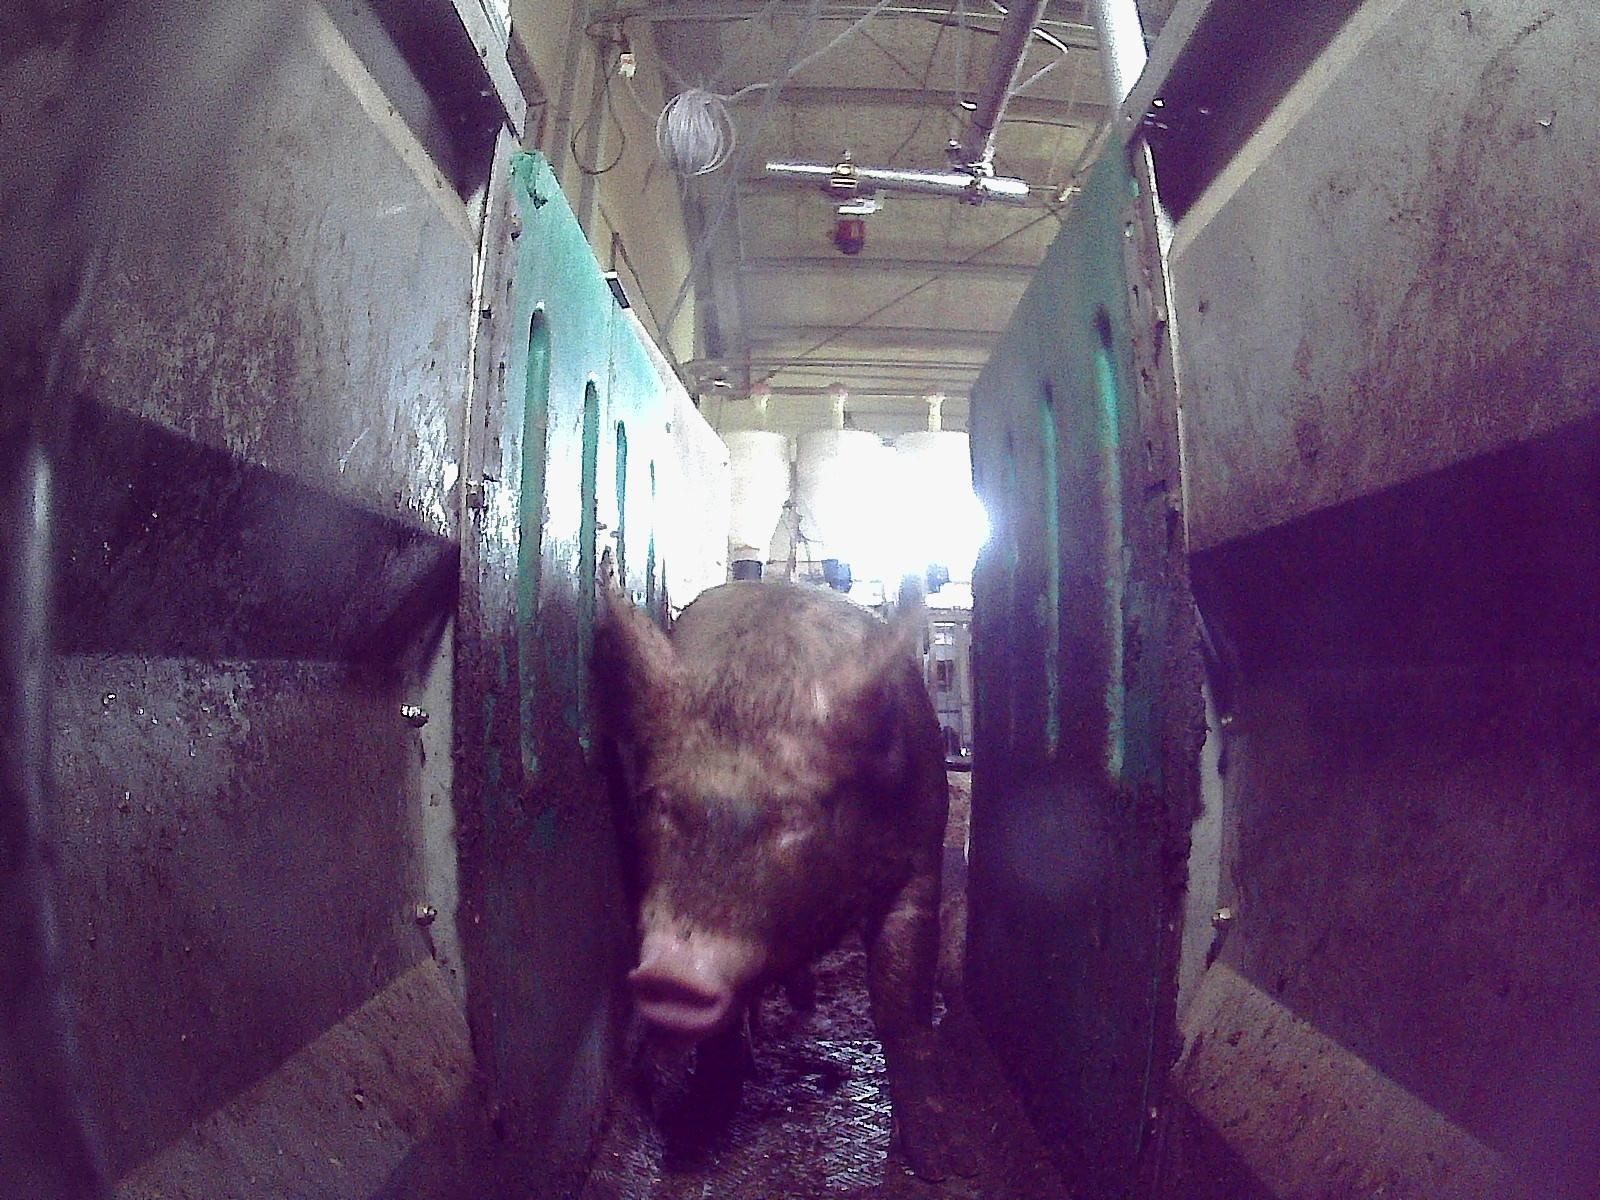Face: (628, 691, 853, 1028)
